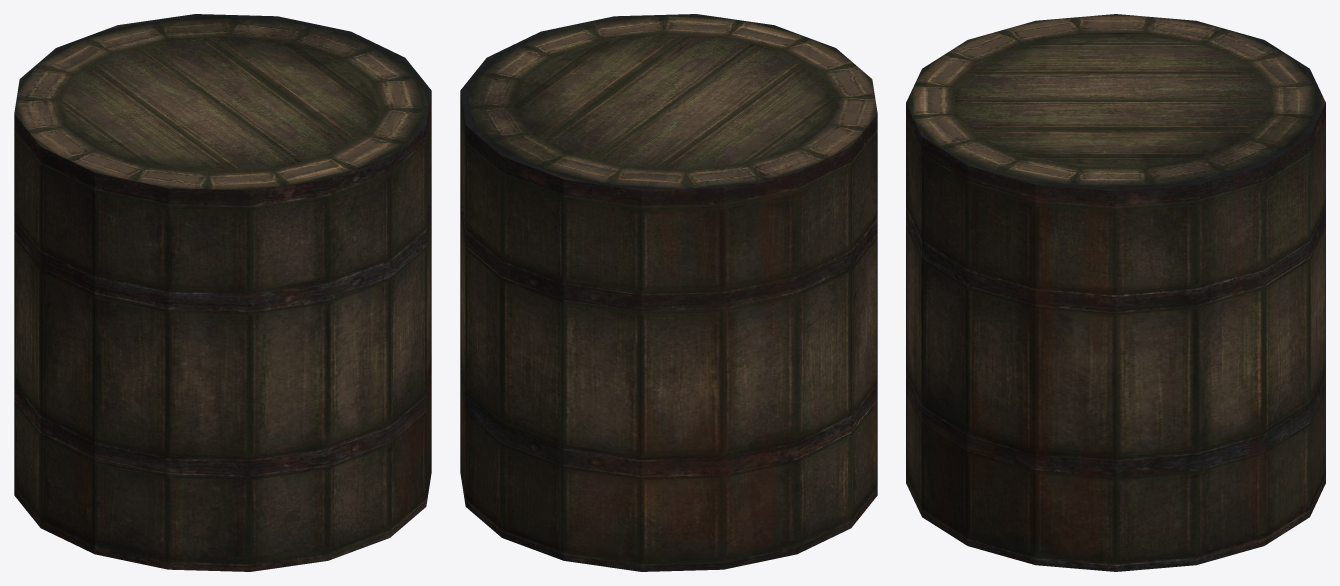
Rendered from barril_v1.fbx.
The picture shows the model from 3 angles, left to right: view 1: azimuth 30°, elevation 25°; view 2: azimuth 150°, elevation 25°; view 3: azimuth 270°, elevation 25°; orthographic projection.
Parts seen in each view (by area): view 1: Barril; view 2: Barril; view 3: Barril.
Boxes of the visible parts, x1,y1,x2,y2 form: Barril: [14, 14, 431, 571]; Barril: [460, 14, 877, 571]; Barril: [906, 14, 1325, 571].
Bounding box in the file's own units: 200 × 200 × 200.
Materials: 1 (1 with a texture image).
